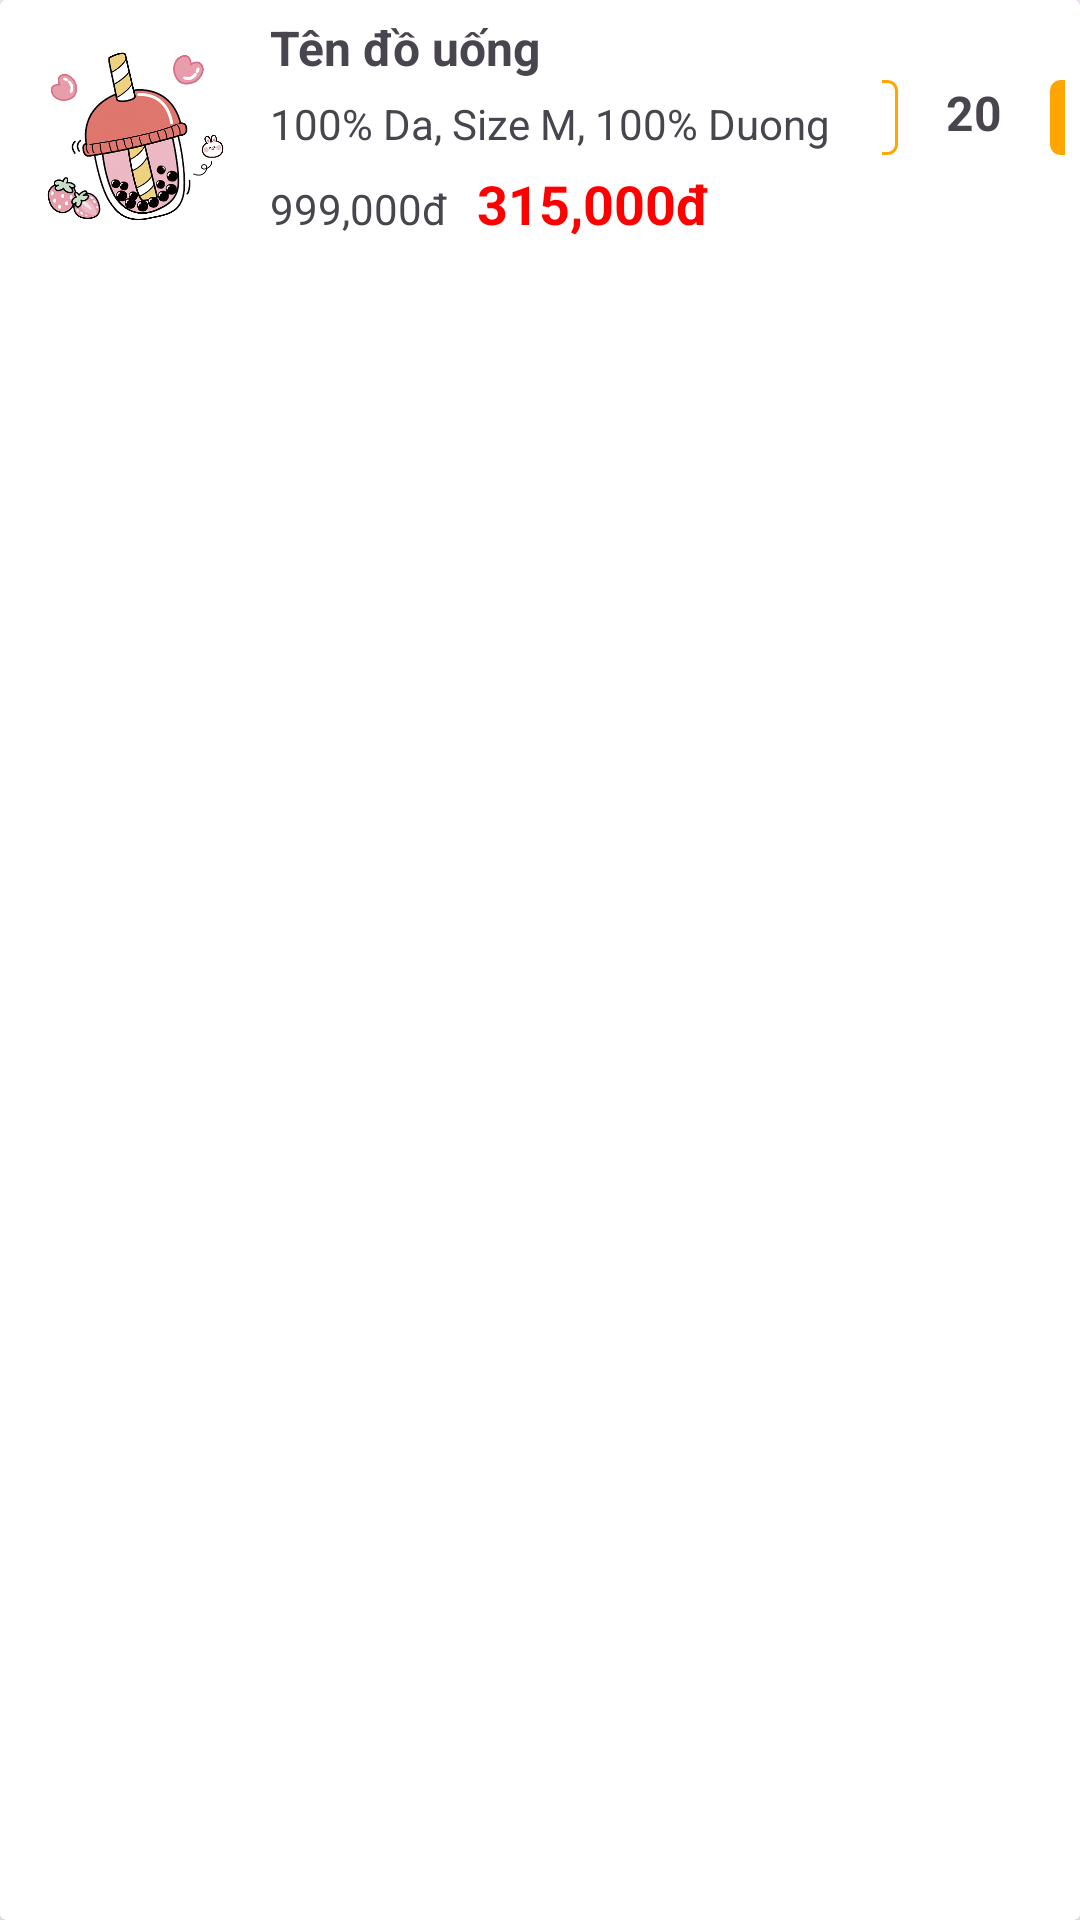

Icons on this 1080 x 1920 Android screen, each with its box as box(x1, y1, x2, y2):
milktea: box(47, 52, 223, 220)
